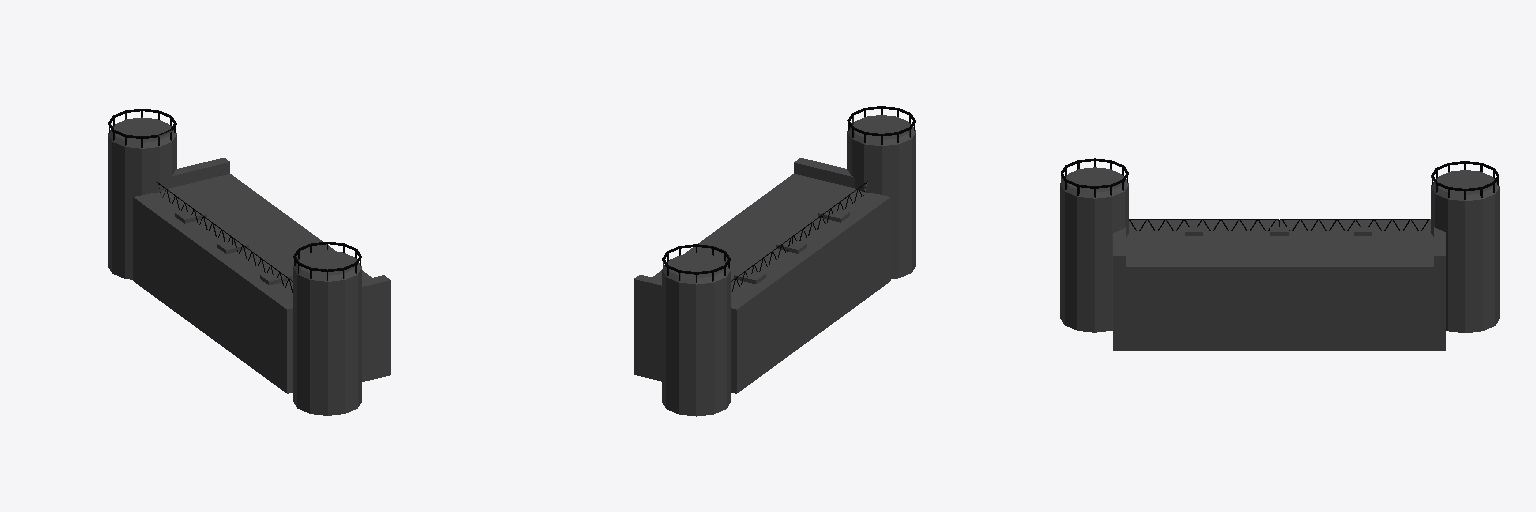
Rendered from Gate.obj.
3 views of the same model, side by side, from view 1: azimuth 30°, elevation 25°; view 2: azimuth 150°, elevation 25°; view 3: azimuth 270°, elevation 25° (orthographic).
Parts seen in each view (by area): view 1: Gate; view 2: Gate; view 3: Gate.
Boxes of the visible parts, x1=… form: Gate: x1=108, y1=109, x2=390, y2=415; Gate: x1=634, y1=106, x2=915, y2=416; Gate: x1=1060, y1=158, x2=1499, y2=350.
Size of the model in its own units: 2.51 by 3.41 by 9.34.